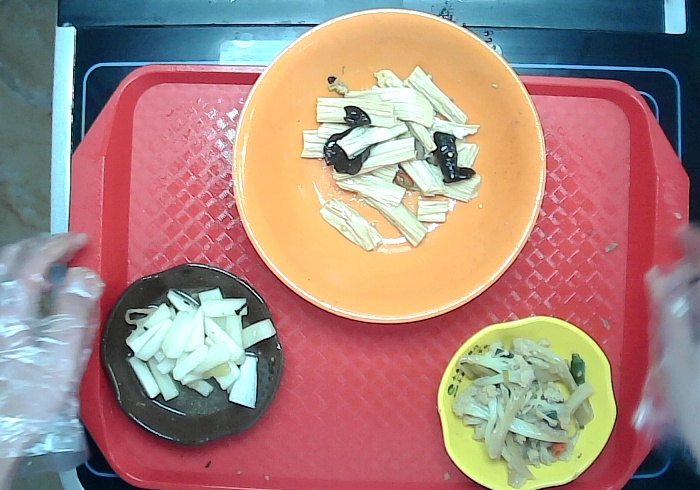YKMZ-Huang_Se_Ao_Bian_Wan: (436, 317, 619, 490)
YKMZ-Ju_Se_Tang_Wan: (230, 8, 546, 323)
YKMZ-Ka_Fei_Ao_Bian_Wan: (100, 262, 284, 447)
